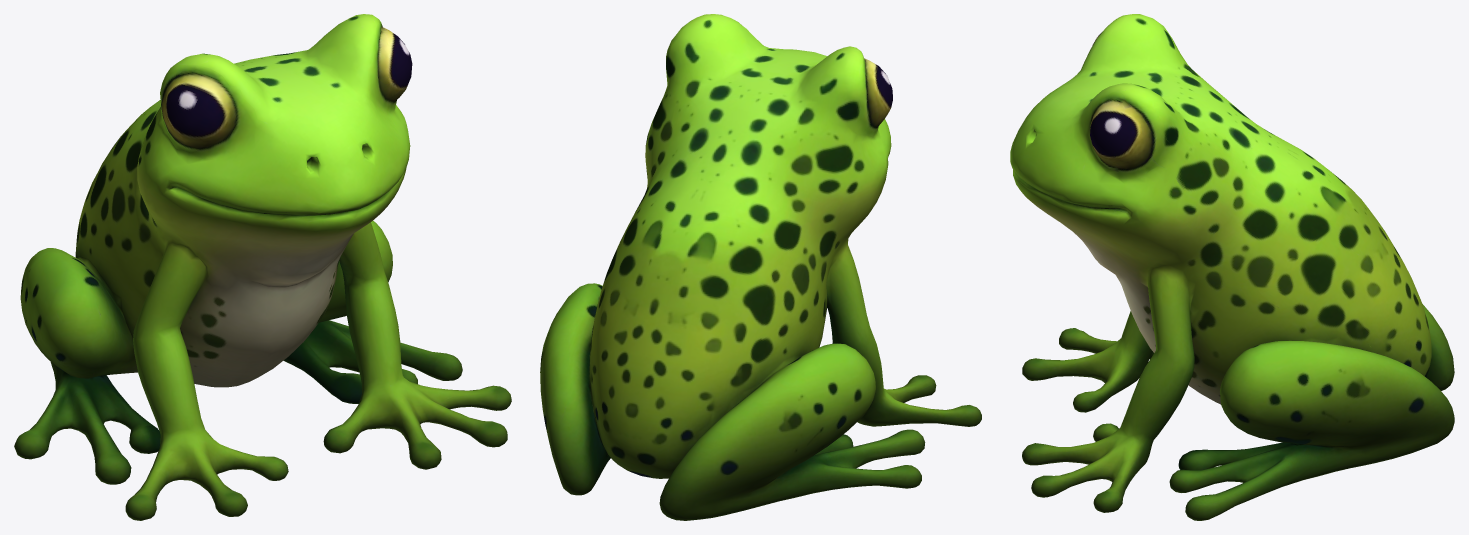
Rendered from frog-nice-smooth.glb.
3 renders of one model, left to right at view 1: azimuth 30°, elevation 25°; view 2: azimuth 150°, elevation 25°; view 3: azimuth 270°, elevation 25°, orthographic. The views are drawn at different scales.
Parts seen in each view (by area): view 1: world; view 2: world; view 3: world.
Part boxes in pixels (x1,y1,x2,y2): world: [14, 14, 511, 520]; world: [540, 14, 981, 520]; world: [1010, 14, 1454, 520].
Bounding box in the file's own units: 1 × 0.9374 × 0.9977.
Materials: 1 (1 with a texture image).
